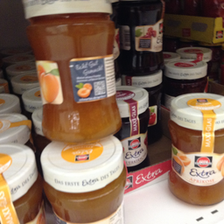jam: (23, 1, 122, 145), (167, 93, 222, 206), (118, 1, 163, 73)
